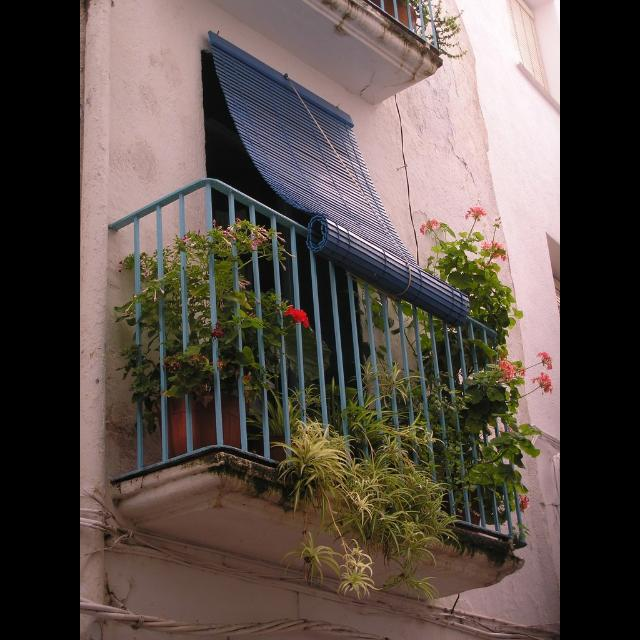Flower: (336, 540, 382, 598), (496, 356, 524, 384), (284, 305, 310, 331), (480, 238, 504, 260), (530, 372, 552, 396), (419, 217, 439, 236), (535, 351, 555, 369), (463, 206, 485, 222), (518, 493, 528, 513)
